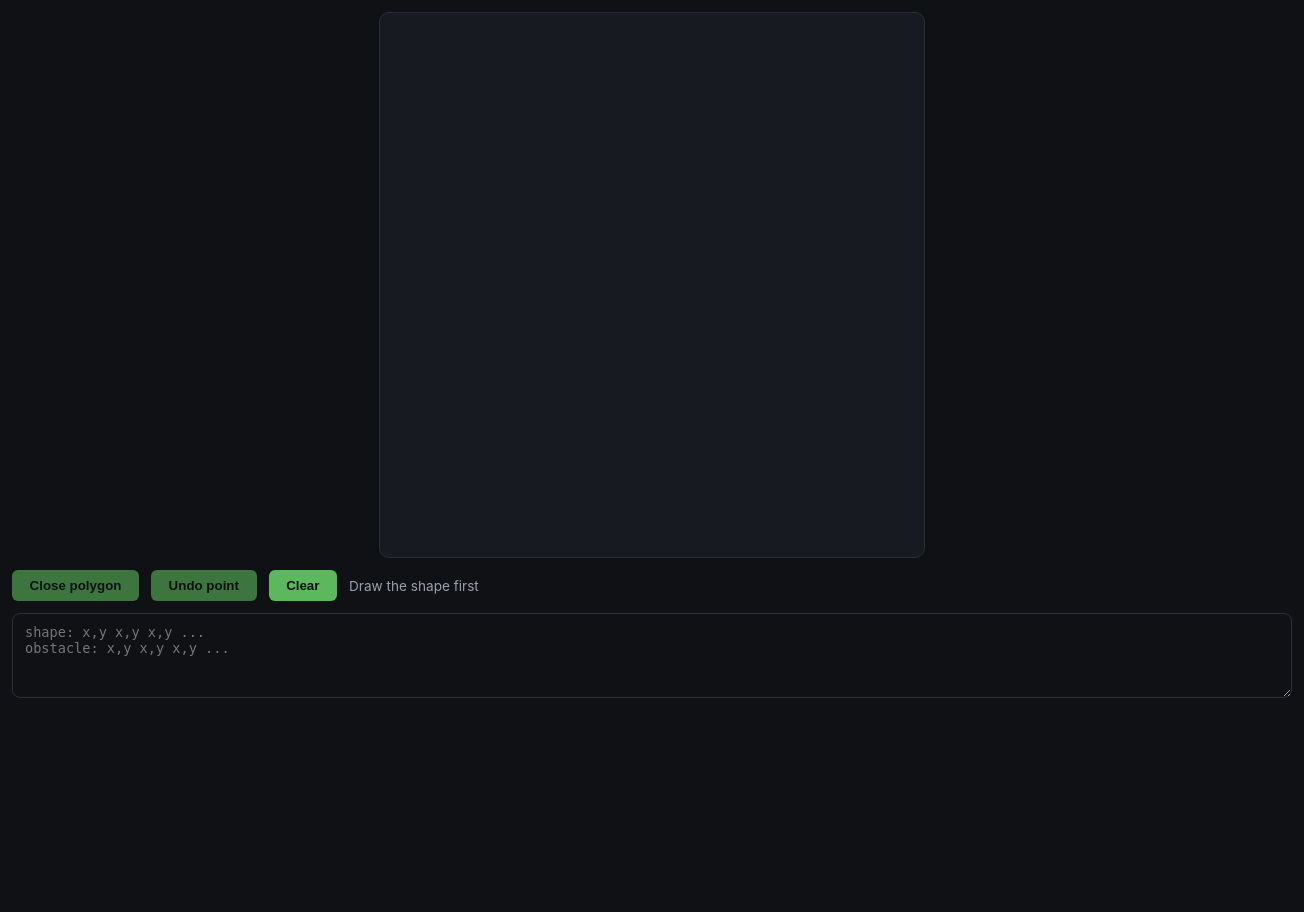
Scenario: the coordinate box › still rejects something that is not a coordinate
In the text box with placeholder "shape: x,y x,y x,y ... obstacle: x,y x,y x,y ...": (652, 656) x1=12 y1=613 x2=1292 y2=698, type "not a point"
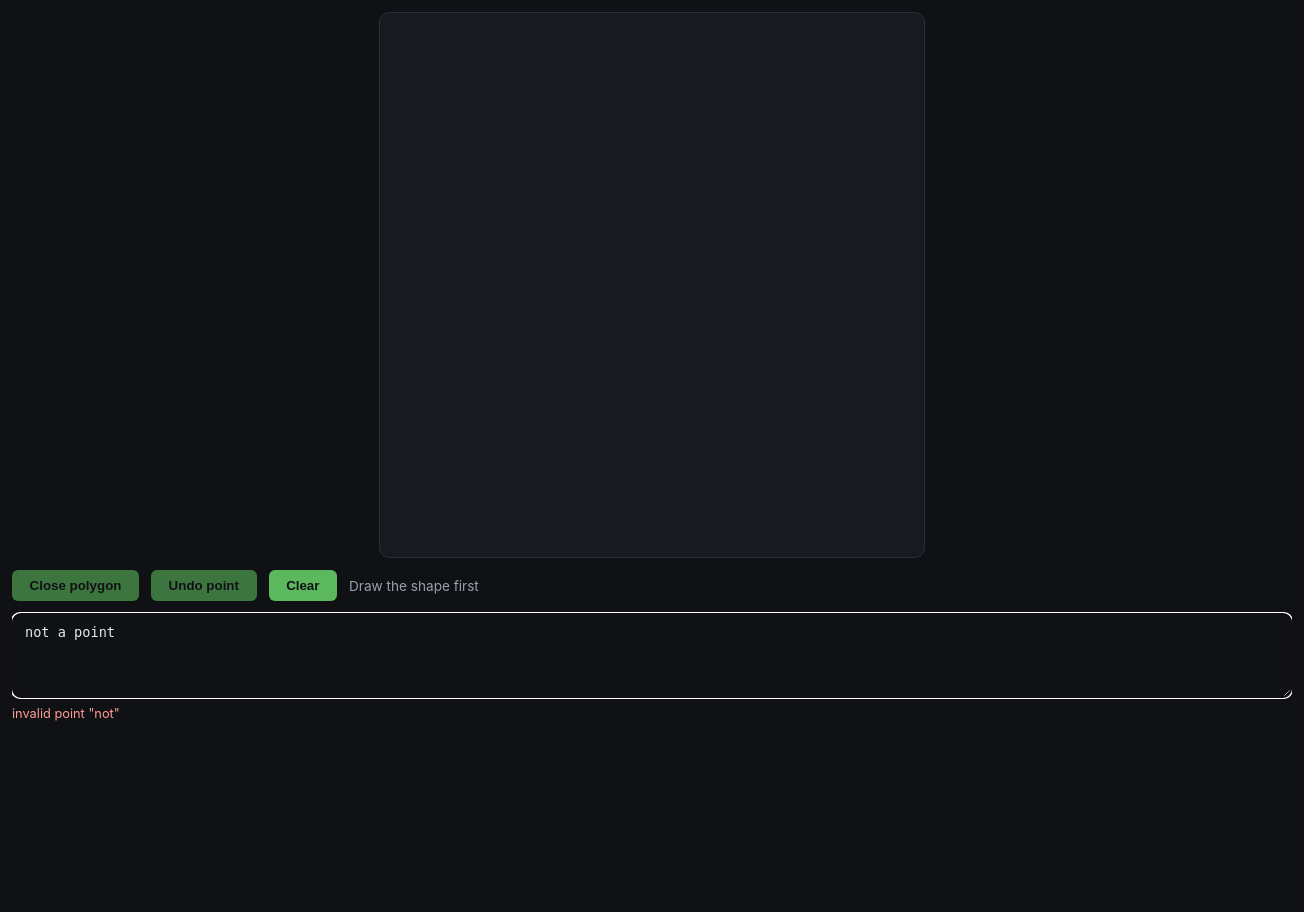
Check: the text "invalid point \"not\"" is shown, box x1=12 y1=706 x2=120 y2=721
